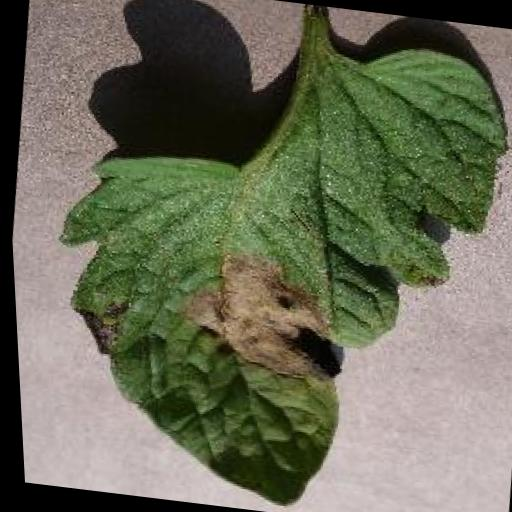Late Blight: (16, 5, 512, 512)
